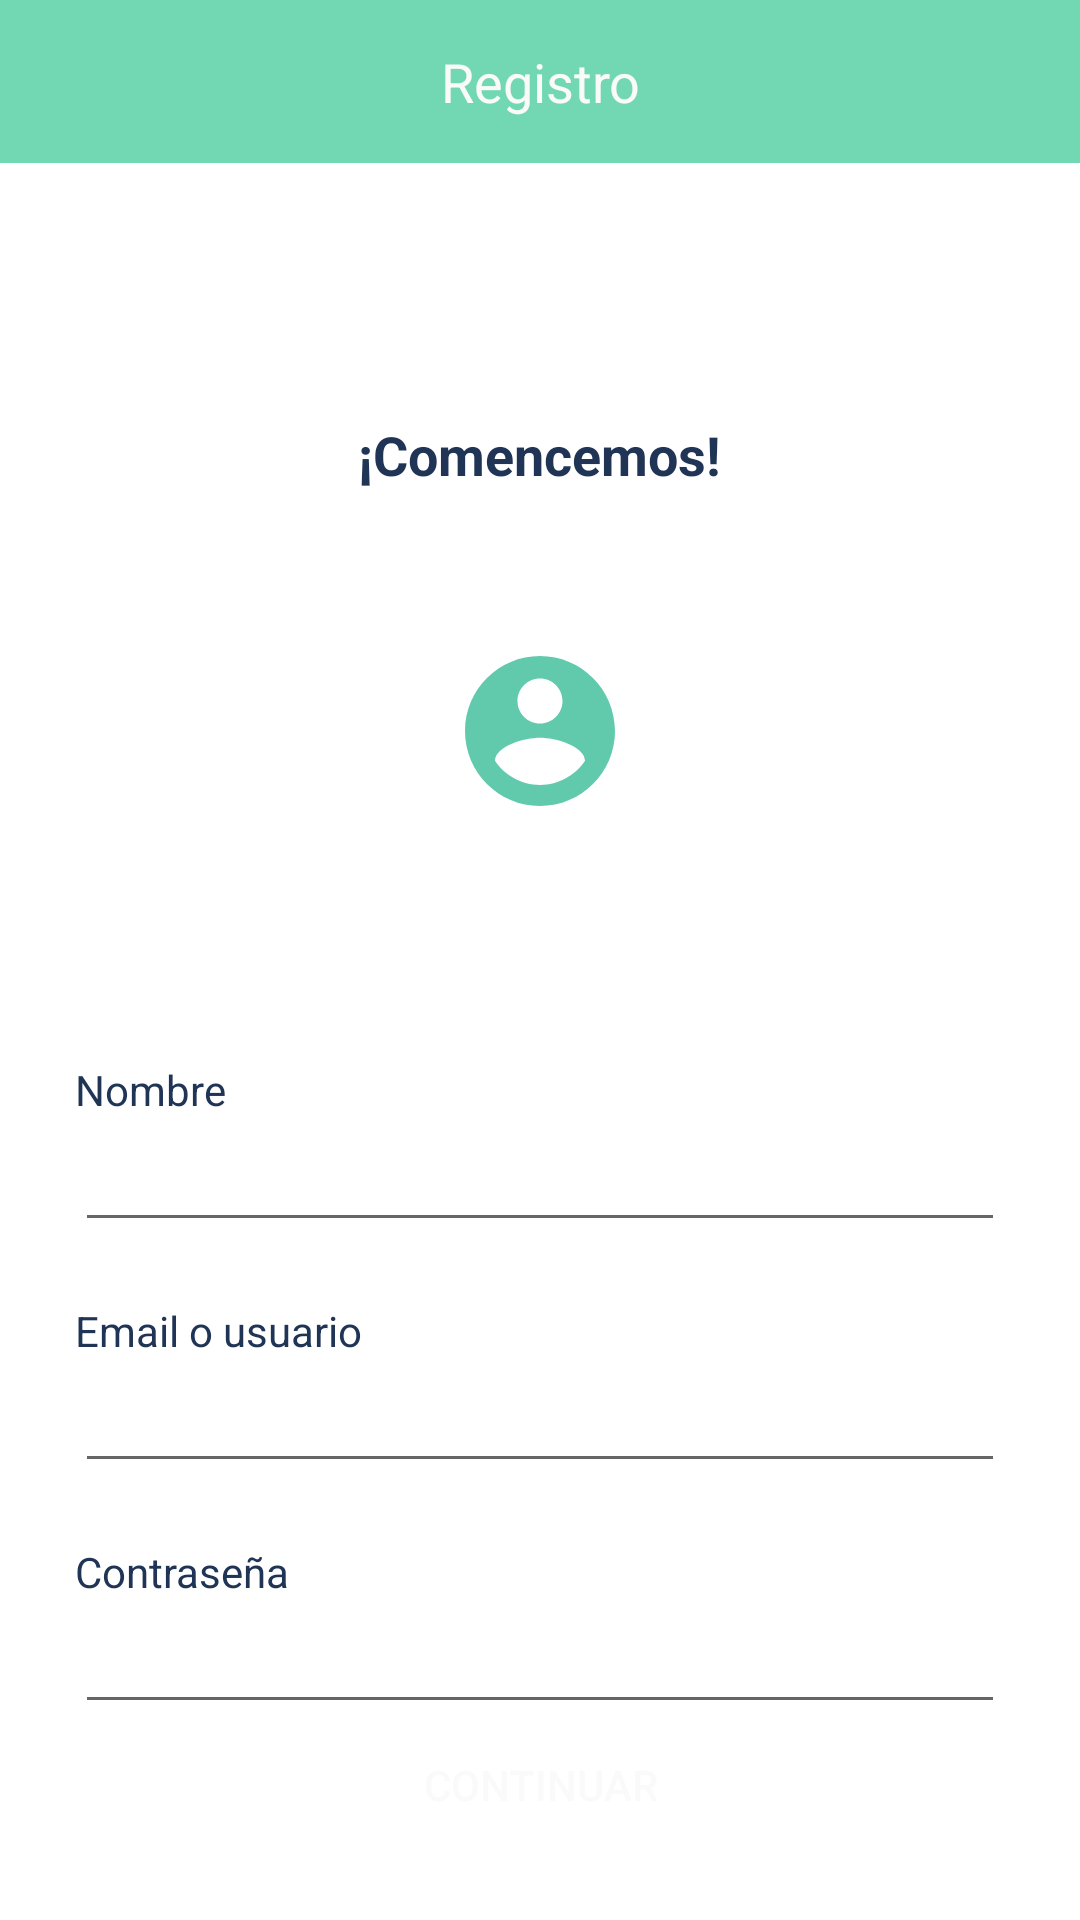

Screen size 1080 x 1920. Icon name, then its box in pixels as (x1, y1, x2, y2):
account circle: (465, 656, 615, 806)
